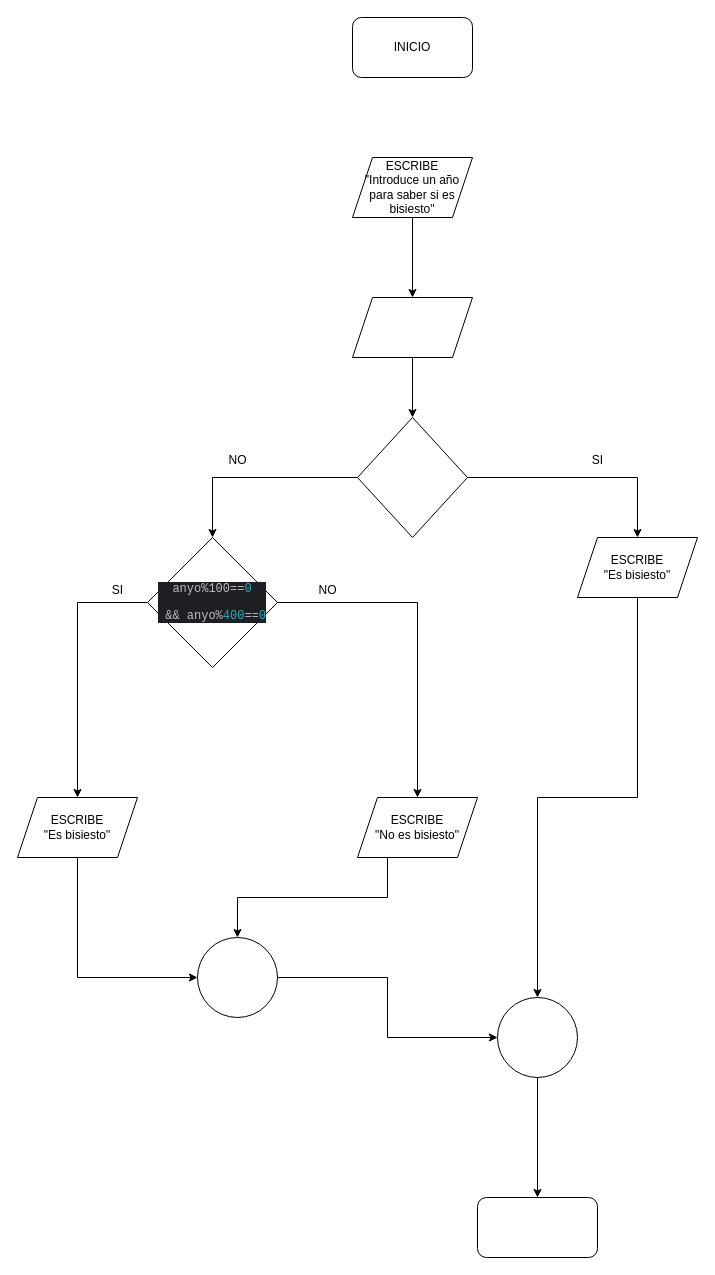
This 715x1275 diagram has some shape labels left out. The shapes that lost their labels are listed below. From the top down, each one's centre as x and y in pixels, then its label:
the point at 412,327: LEER anyo
the point at 412,477: anyo%4==0 && anyo%100!=0
the point at 537,1227: FIN
